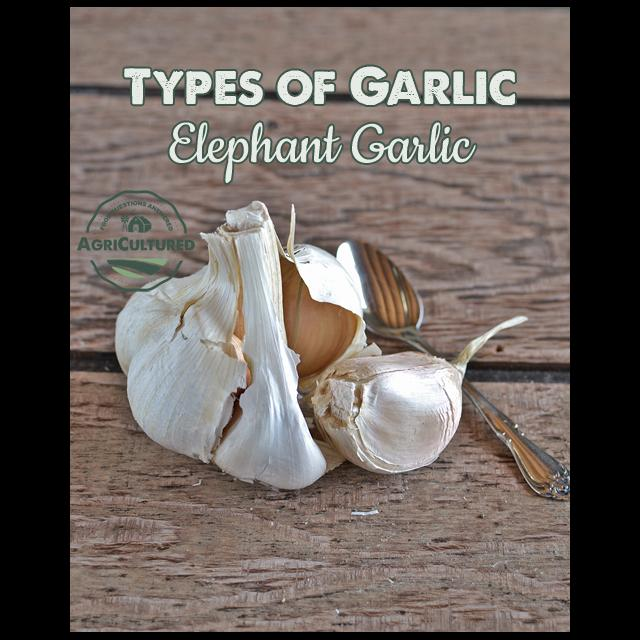garlic: (318, 349, 458, 472), (283, 243, 358, 373)
